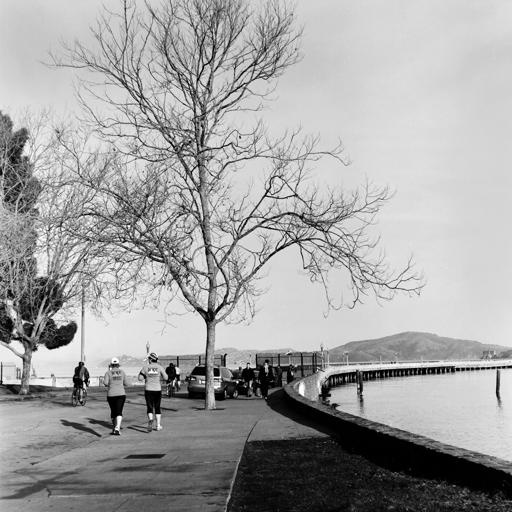non-vehicle: (71, 380, 89, 407), (166, 379, 176, 398), (175, 377, 180, 392)
